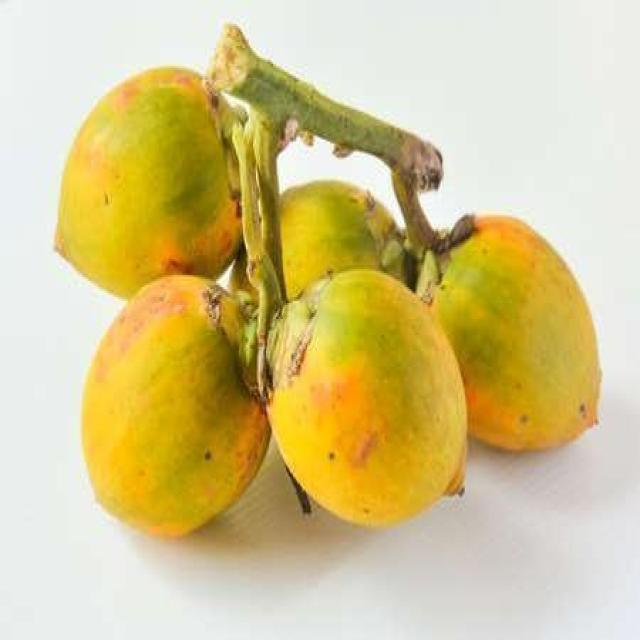good: (238, 263, 469, 530), (80, 275, 273, 542), (53, 66, 242, 303), (431, 215, 603, 455), (280, 181, 420, 301)
